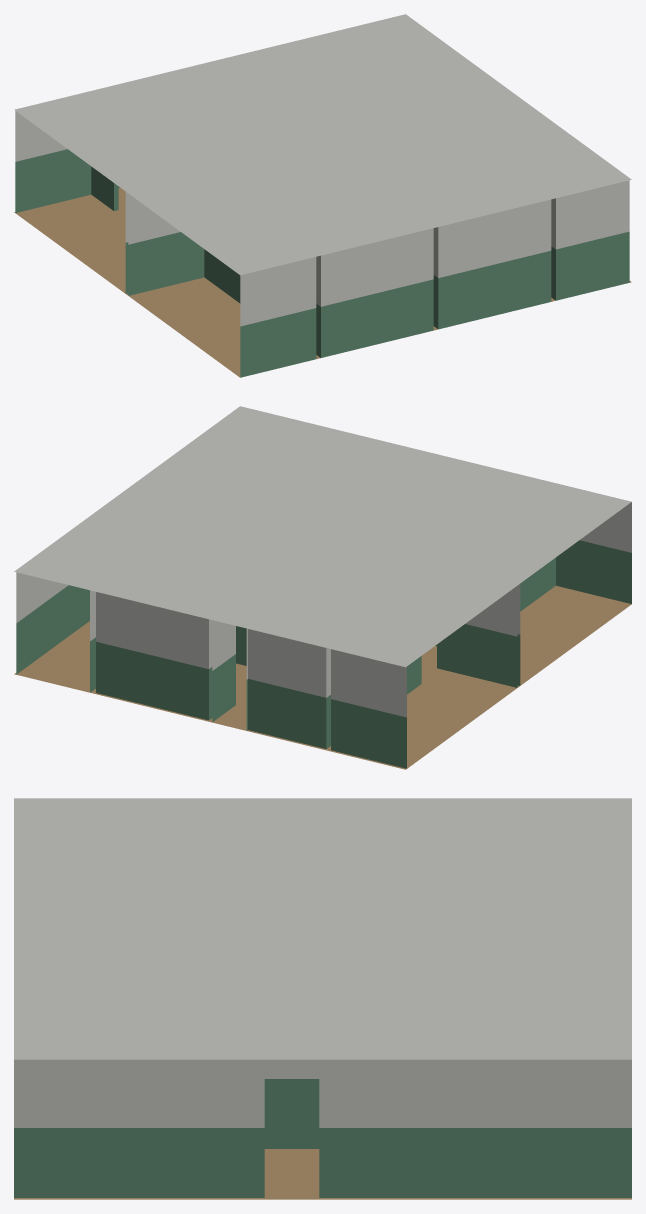
The model's file is chunk_1_3.glb.
3 renders of one model, top to bottom at view 1: azimuth 30°, elevation 25°; view 2: azimuth 150°, elevation 25°; view 3: azimuth 270°, elevation 25°, orthographic. The views are drawn at different scales.
Visible parts, largest first — view 1: chunk_1_3; view 2: chunk_1_3; view 3: chunk_1_3.
Boxes of the visible parts, box(x1,y1,x2,y2) form: chunk_1_3: box(14, 14, 631, 377); chunk_1_3: box(14, 406, 631, 769); chunk_1_3: box(14, 798, 631, 1199).
Bounding box in the file's own units: 12 × 3 × 12.
